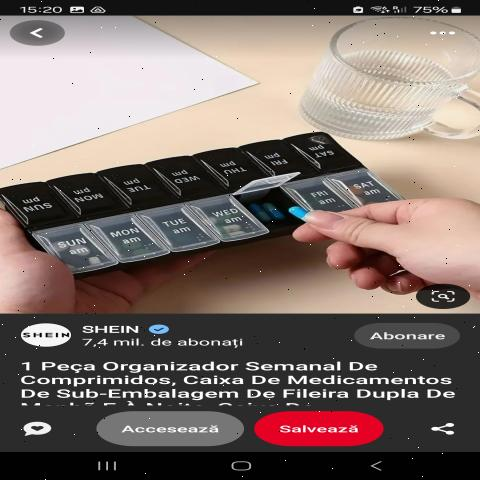PillBox: (11, 123, 410, 280)
